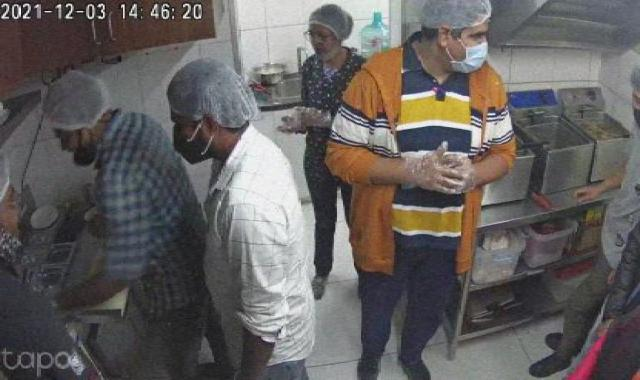hairnet: (159, 51, 259, 134), (38, 69, 114, 131), (408, 1, 516, 37), (292, 0, 357, 53)
